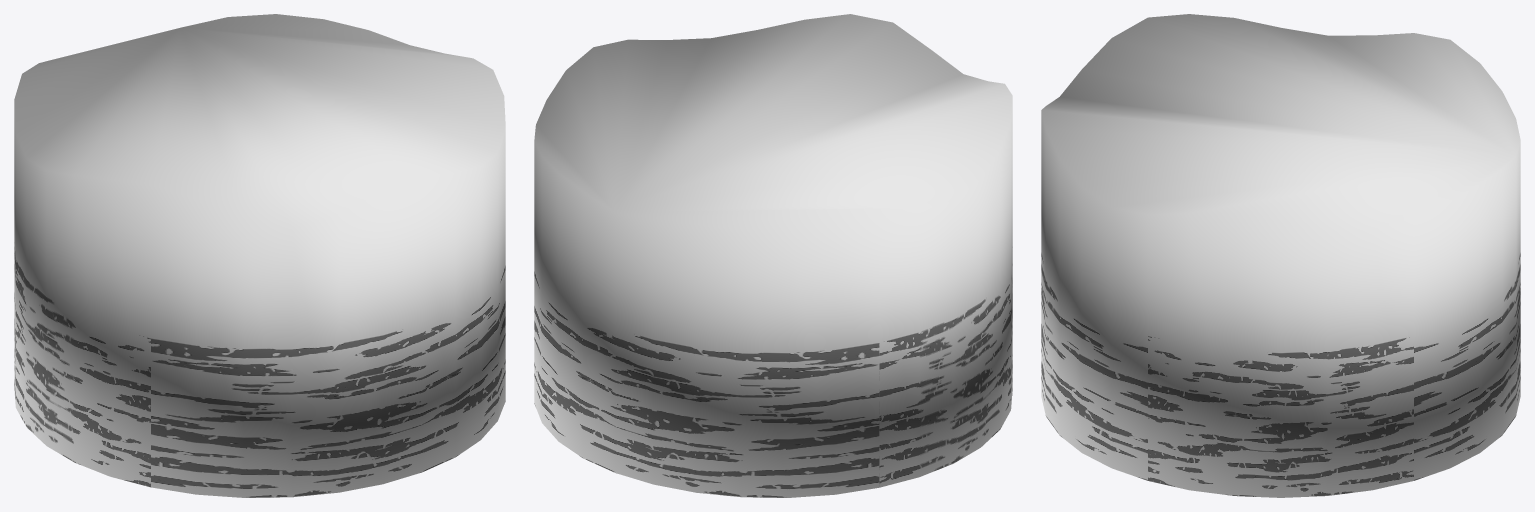
The model's file is spirebase.obj.
3 views of the same model, side by side, from view 1: azimuth 30°, elevation 25°; view 2: azimuth 150°, elevation 25°; view 3: azimuth 270°, elevation 25° (orthographic). The views are drawn at different scales.
Visible parts, largest first — view 1: Cylinder; view 2: Cylinder; view 3: Cylinder.
Part boxes in pixels (x1=…): Cylinder: x1=14, y1=14, x2=505, y2=497; Cylinder: x1=534, y1=14, x2=1012, y2=497; Cylinder: x1=1041, y1=14, x2=1520, y2=497.
Bounding box in the file's own units: 8 × 5.48 × 8.
